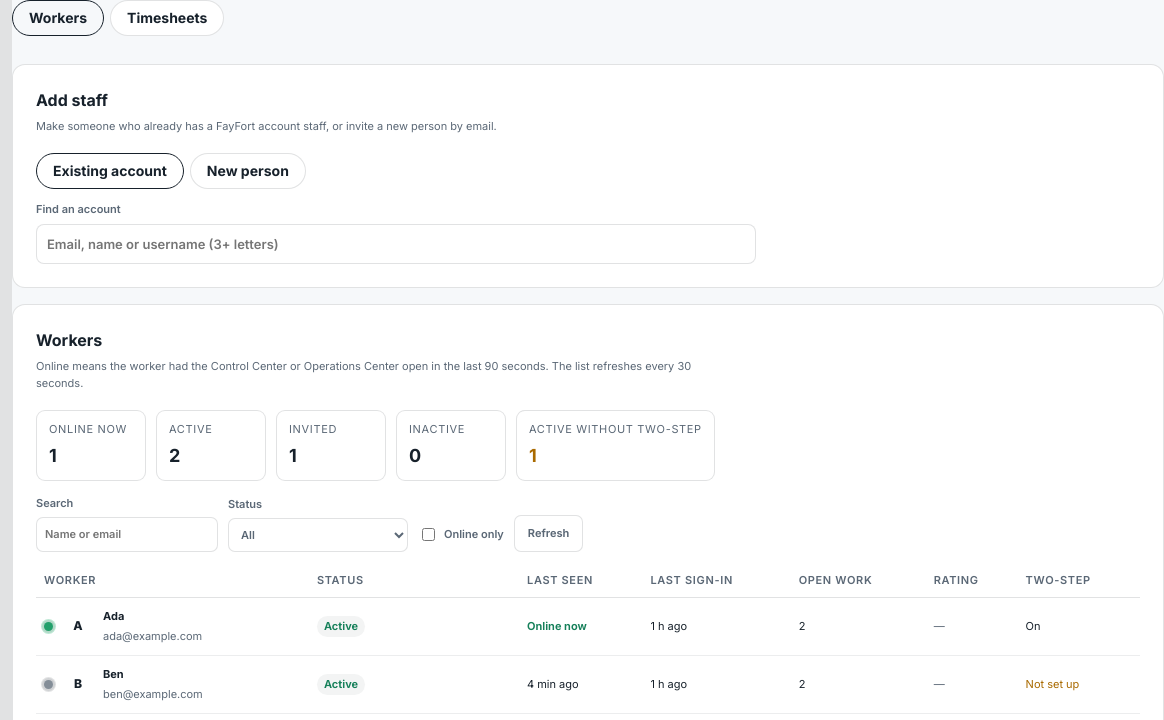
worker directory › opens a worker profile with work, sign-ins and audit, and deep-links it
The width and height of the screenshot is (1164, 720).
Click the button "B Ben ben@example.com" at {"x": 123, "y": 685}, box [44,666,203,703]
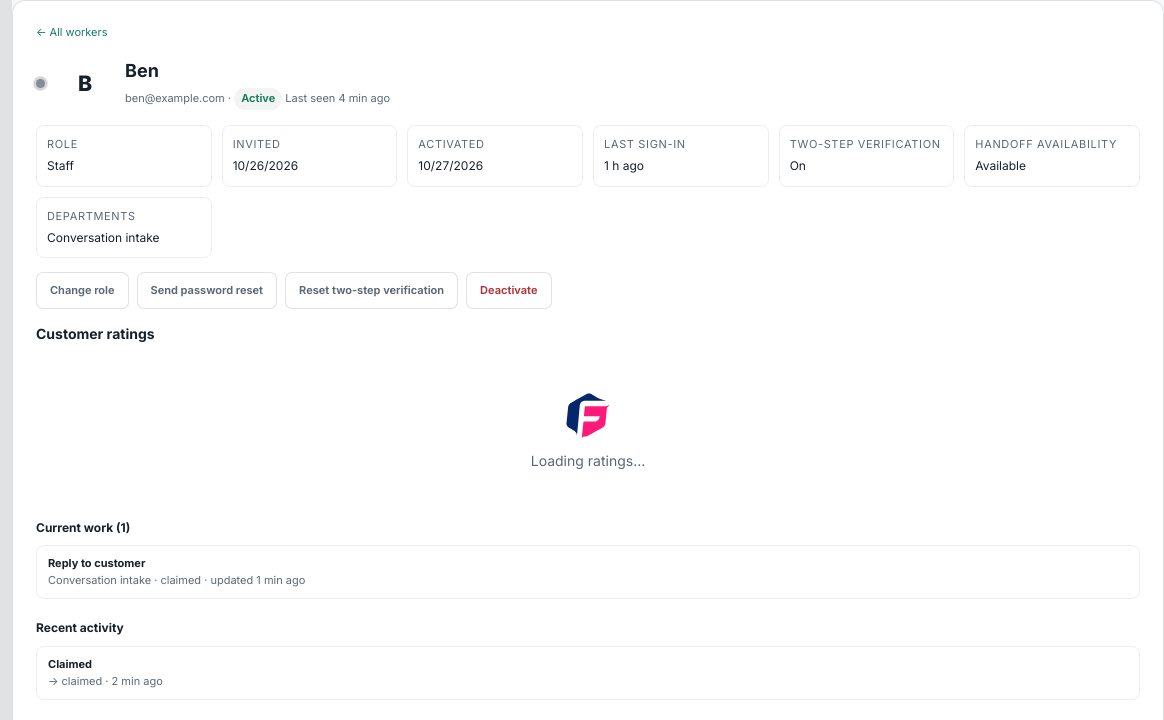
Result: the heading "Ben" is shown at [125,60,159,81]
Result: the text "Reply to customer" is shown at [48,556,145,570]
Click the button "← All workers" at {"x": 72, "y": 32}, box [36,24,108,41]
(page scrolled)
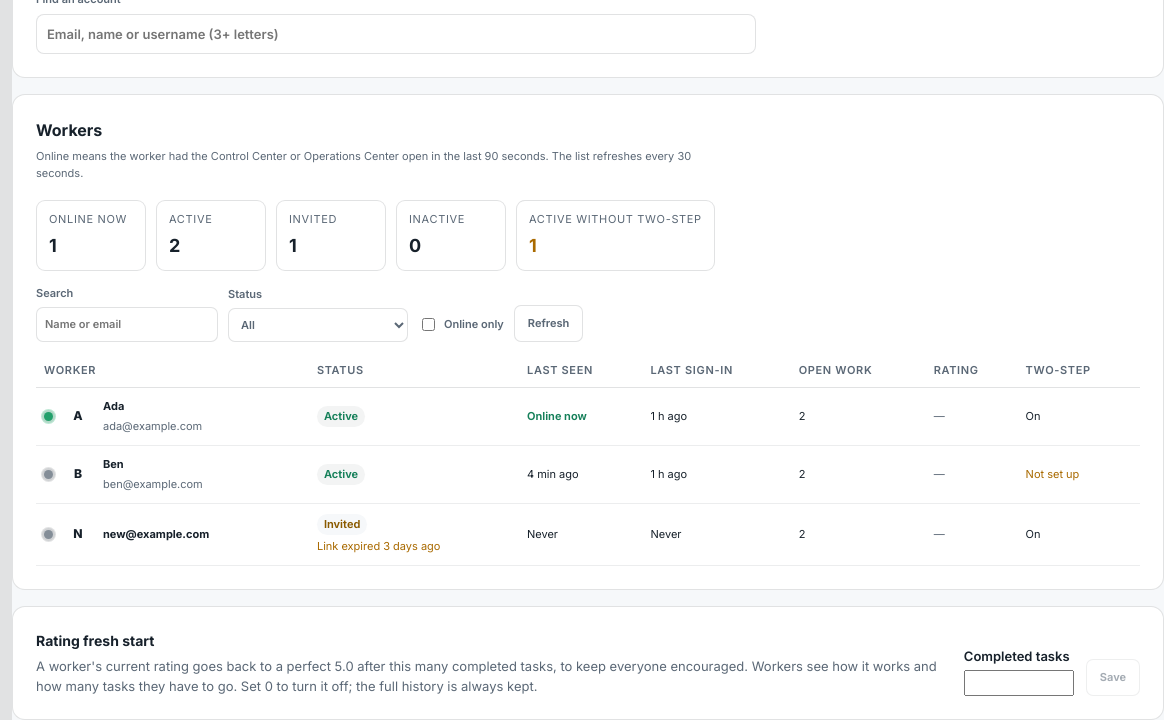
Result: the table is shown at [36,354,1140,566]
